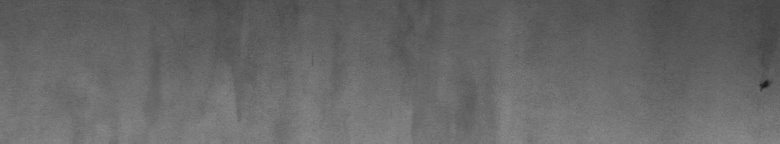fi: (753, 58, 776, 96)
